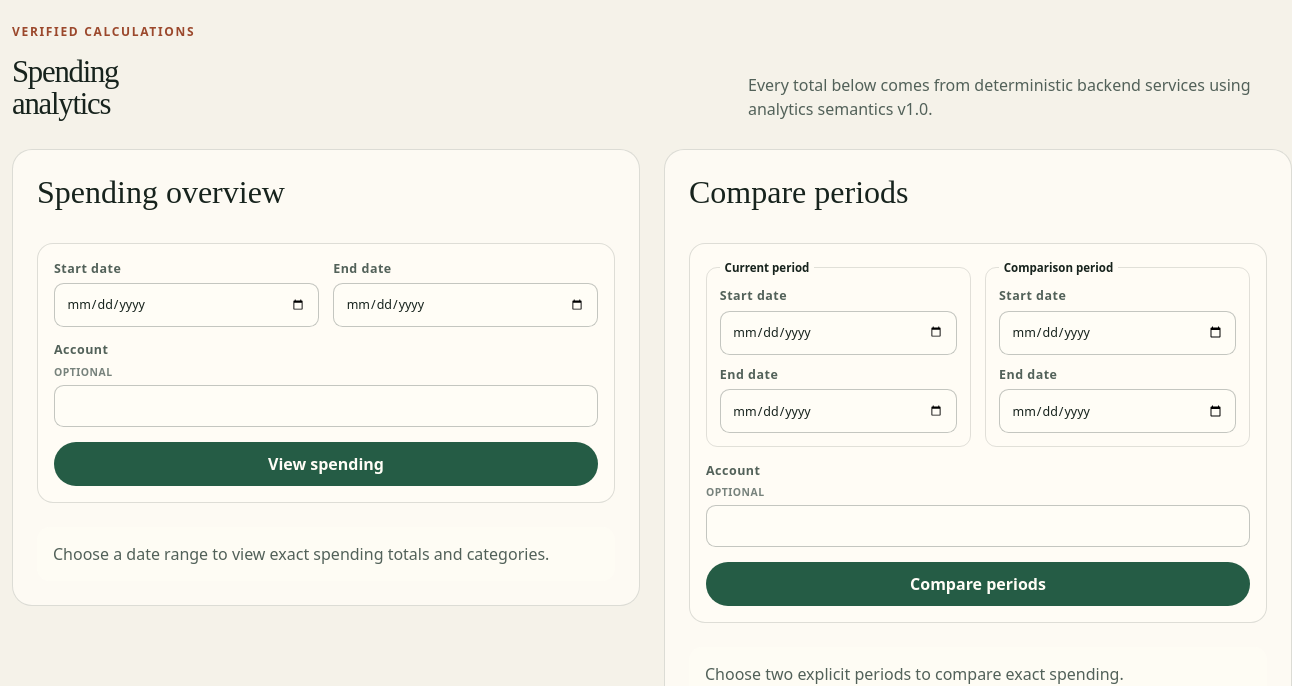
AnalyticsDashboard › renders summary and category values returned by the API
This screenshot has width=1292, height=686.
Type "2026-06-01" into the date field labelled "Start date" below "Spending overview" at point(186, 305), box [54,283,319,327]
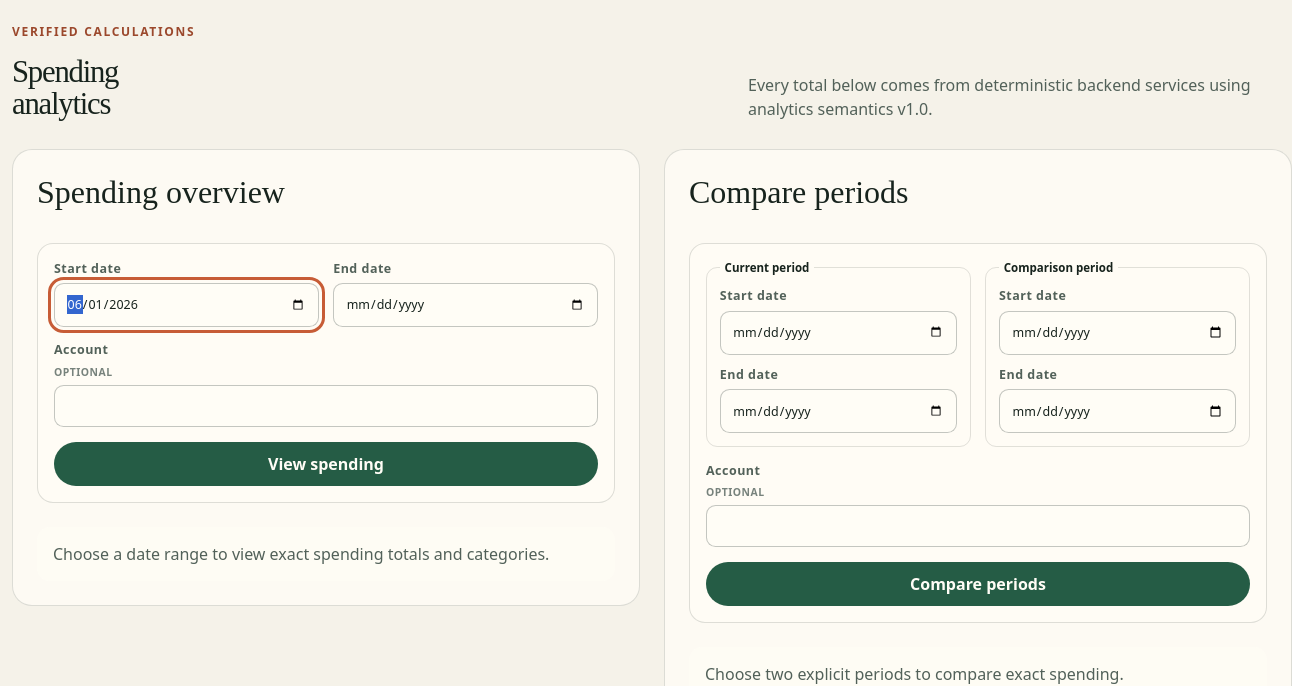
Type "2026-06-30" into the date field labelled "End date" below "Spending overview" at point(466, 305), box [333,283,598,327]
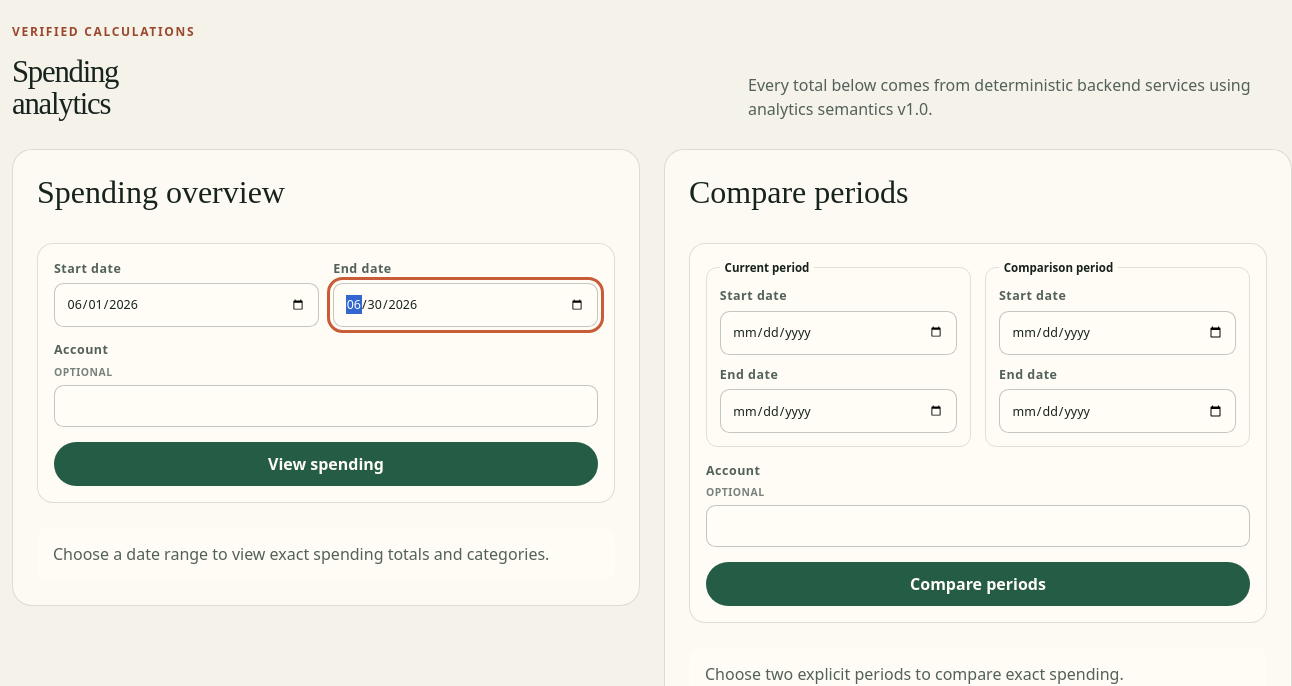
Click the button "View spending" at point(326, 464), box [54,442,598,486]
(page scrolled)
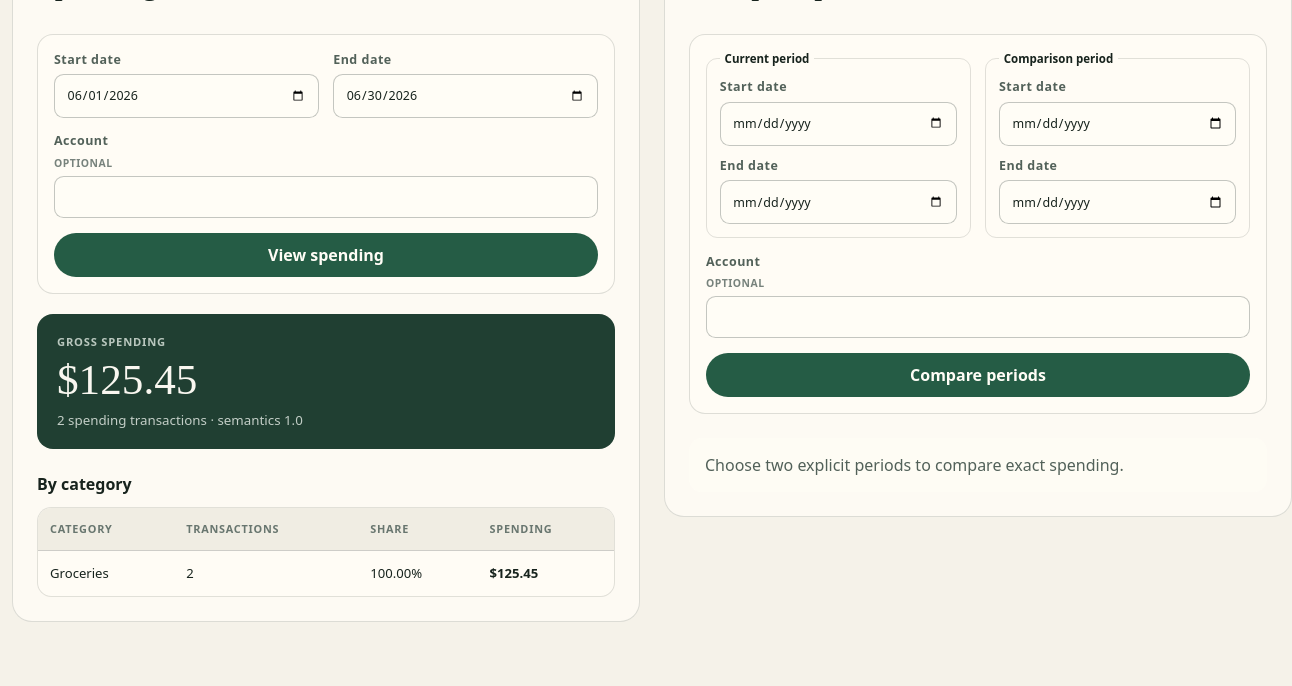
Expected: the text "$125.45" is shown, [57,356,197,403]
Expected: the text "Groceries" is shown, [38,550,174,596]
Expected: the text "100.00%" is shown, [358,550,478,596]
